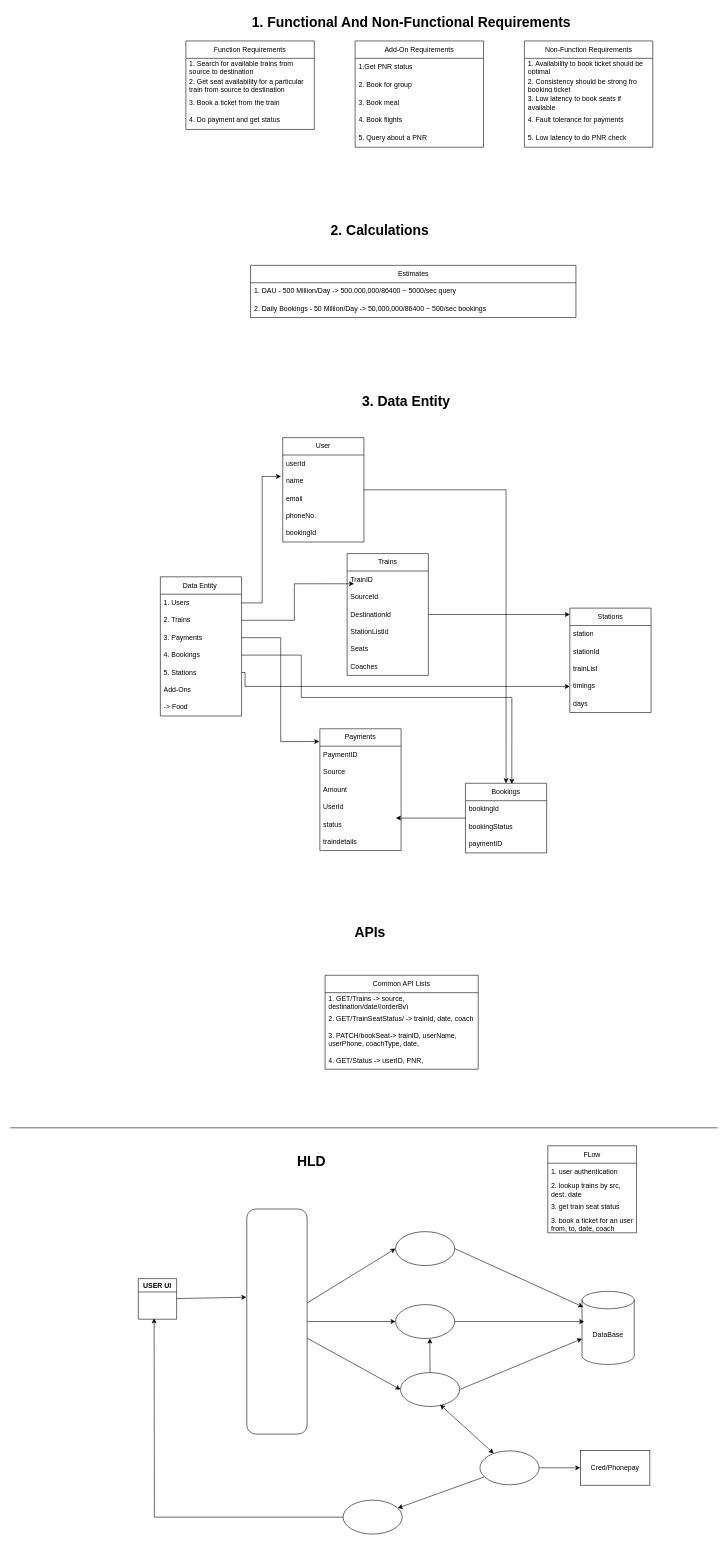
Some shapes in this 728 by 1544 pixel diagram are drawn without their labels. Here are the shapes that lost their labels. From the top down, the centre of each, then its label:
At point (425, 1248): "user Service".
At point (276, 1321): "API Gateway : - Rate Limiting - SSL Termination - Load Balancing".
At point (425, 1321): "trainDetail Service".
At point (430, 1389): "booking Service".
At point (509, 1467): "payment Service".
At point (372, 1517): "notification Service".
